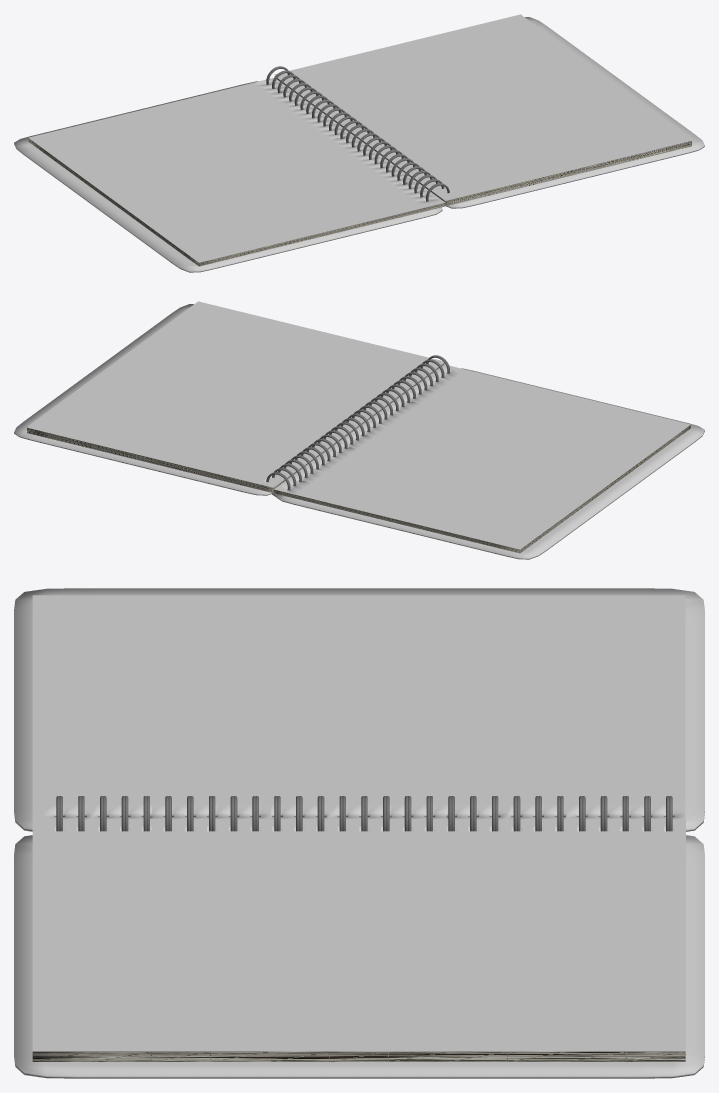
File: Notebook.fbx
3 views of the same model, one above another, from view 1: azimuth 30°, elevation 25°; view 2: azimuth 150°, elevation 25°; view 3: azimuth 270°, elevation 25° (orthographic). The views are drawn at different scales.
Visible parts, largest first — view 1: PagesLeft, Page, Cover, Rings, PagesRight; view 2: PagesLeft, Page, Cover, Rings, PagesRight; view 3: Page, PagesLeft, Cover, PagesRight, Rings.
Boxes of the visible parts, left/top/right/bottom form: PagesLeft: left=28, top=78, right=445, bottom=266; Page: left=274, top=14, right=690, bottom=199; Cover: left=14, top=17, right=704, bottom=272; Rings: left=266, top=66, right=449, bottom=201; PagesRight: left=274, top=74, right=691, bottom=206; PagesLeft: left=273, top=364, right=690, bottom=553; Page: left=28, top=301, right=443, bottom=486; Cover: left=14, top=304, right=704, bottom=559; Rings: left=266, top=355, right=449, bottom=496; PagesRight: left=27, top=362, right=444, bottom=492; Page: left=33, top=818, right=685, bottom=1048; PagesLeft: left=32, top=595, right=685, bottom=821; Cover: left=14, top=588, right=704, bottom=1078; PagesRight: left=32, top=822, right=685, bottom=1061; Rings: left=56, top=796, right=672, bottom=831.
Bounding box in the file's own units: 424 × 18.95 × 254.
